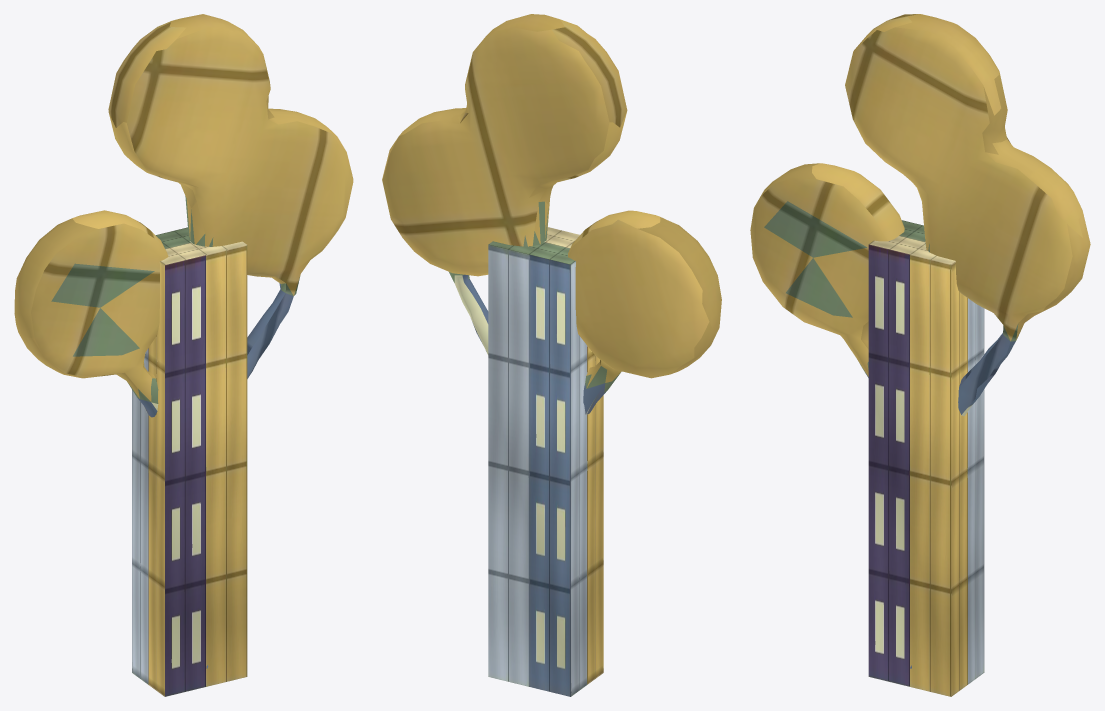
File: robot_tree.glb
3 renders of one model, left to right at view 1: azimuth 30°, elevation 25°; view 2: azimuth 150°, elevation 25°; view 3: azimuth 330°, elevation 25°, orthographic.
Visible parts, largest first — view 1: lod0, col; view 2: lod0, col; view 3: lod0, col.
Boxes of the visible parts, x1,y1,x2,y2 form: lod0: [14, 14, 353, 668]; col: [132, 227, 247, 696]; lod0: [382, 14, 721, 414]; col: [488, 227, 603, 696]; lod0: [750, 14, 1090, 668]; col: [868, 220, 984, 696].
Size of what is drawn, in the model's own units: 2.38 by 4.55 by 0.4162.
2 materials, 2 textured.
